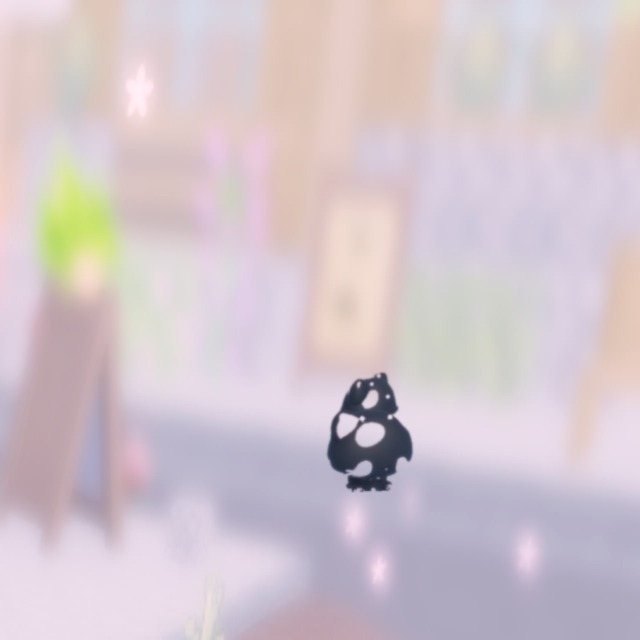urso_preto: (320, 363, 423, 493)
